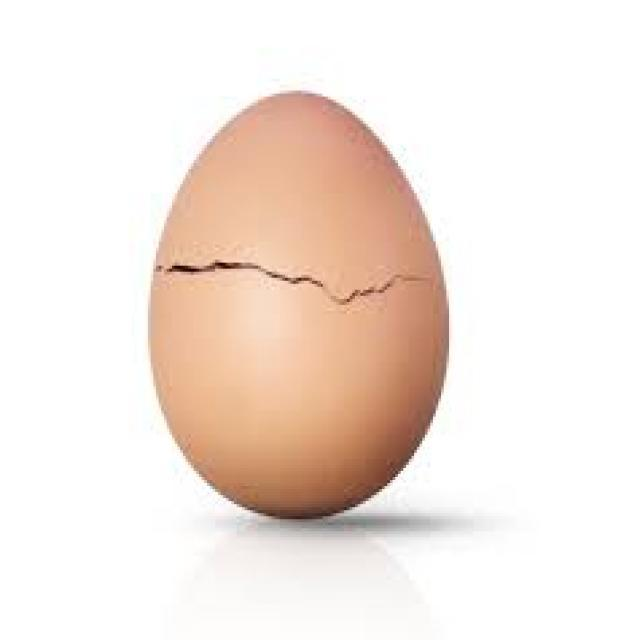biodegradable: (152, 92, 451, 518)
